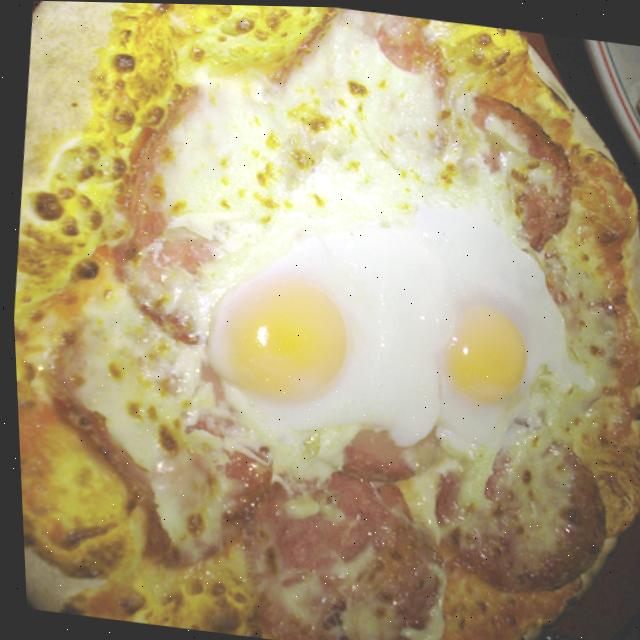鸡蛋料理: (186, 156, 604, 486)
